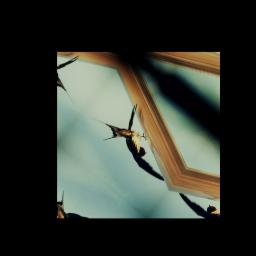Swallow: (84, 86, 192, 189)
